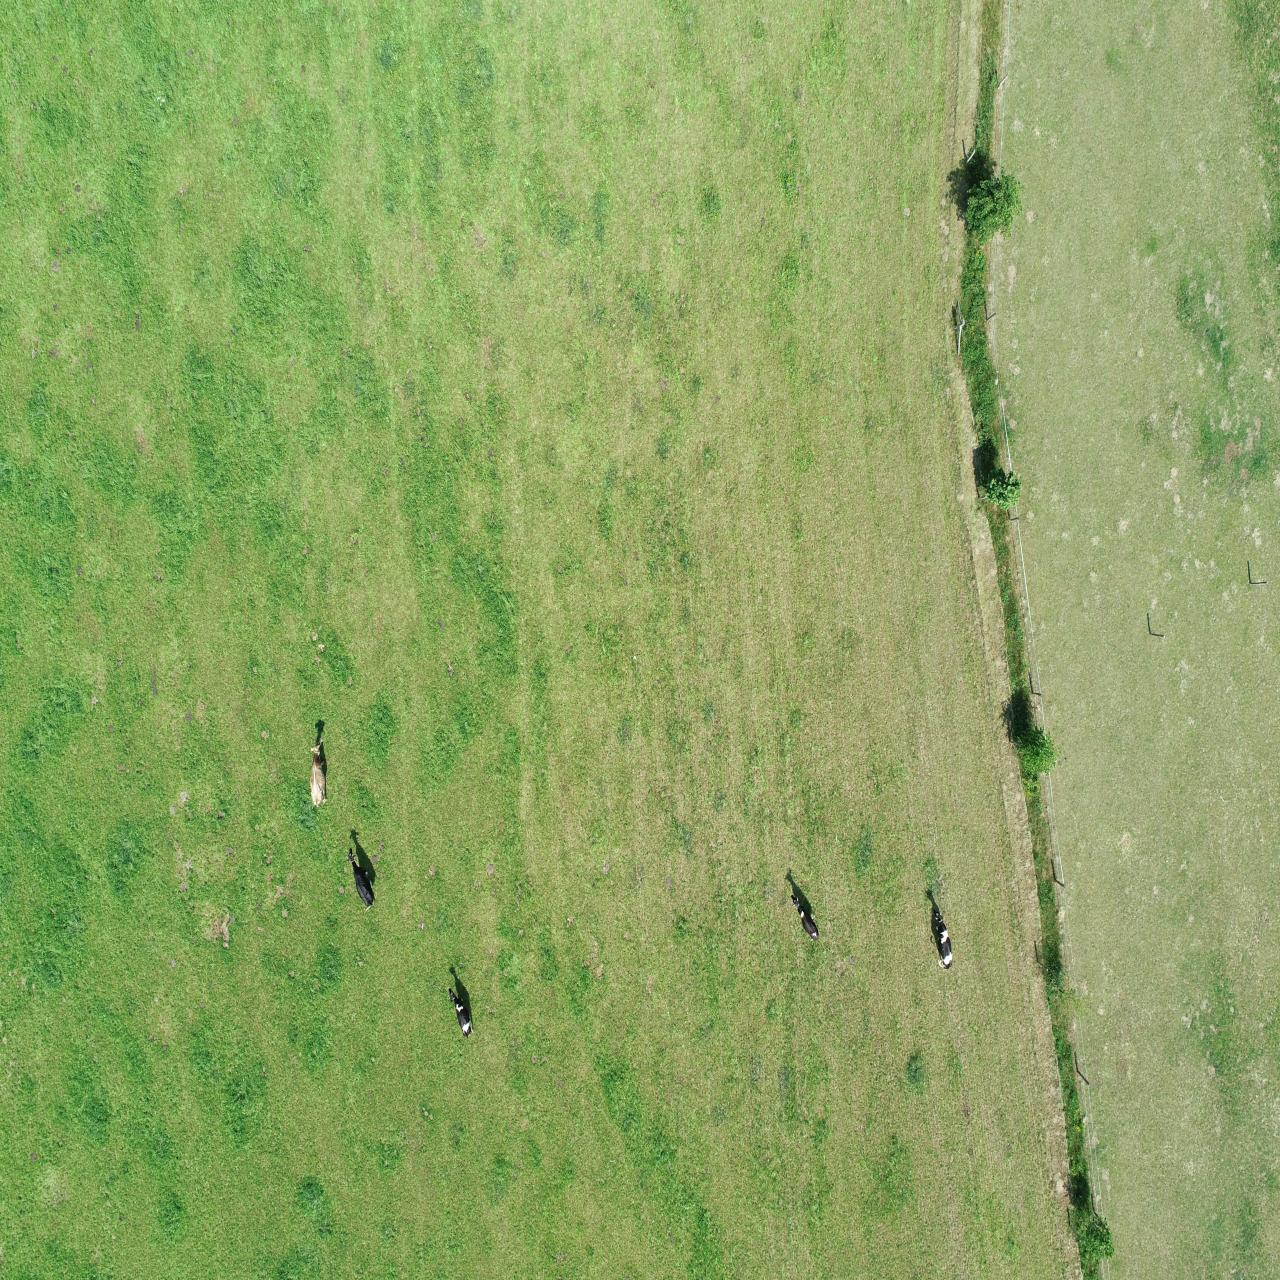cow: (345, 846, 377, 914), (444, 986, 477, 1042), (928, 907, 955, 973), (306, 736, 328, 811), (788, 892, 821, 942)
